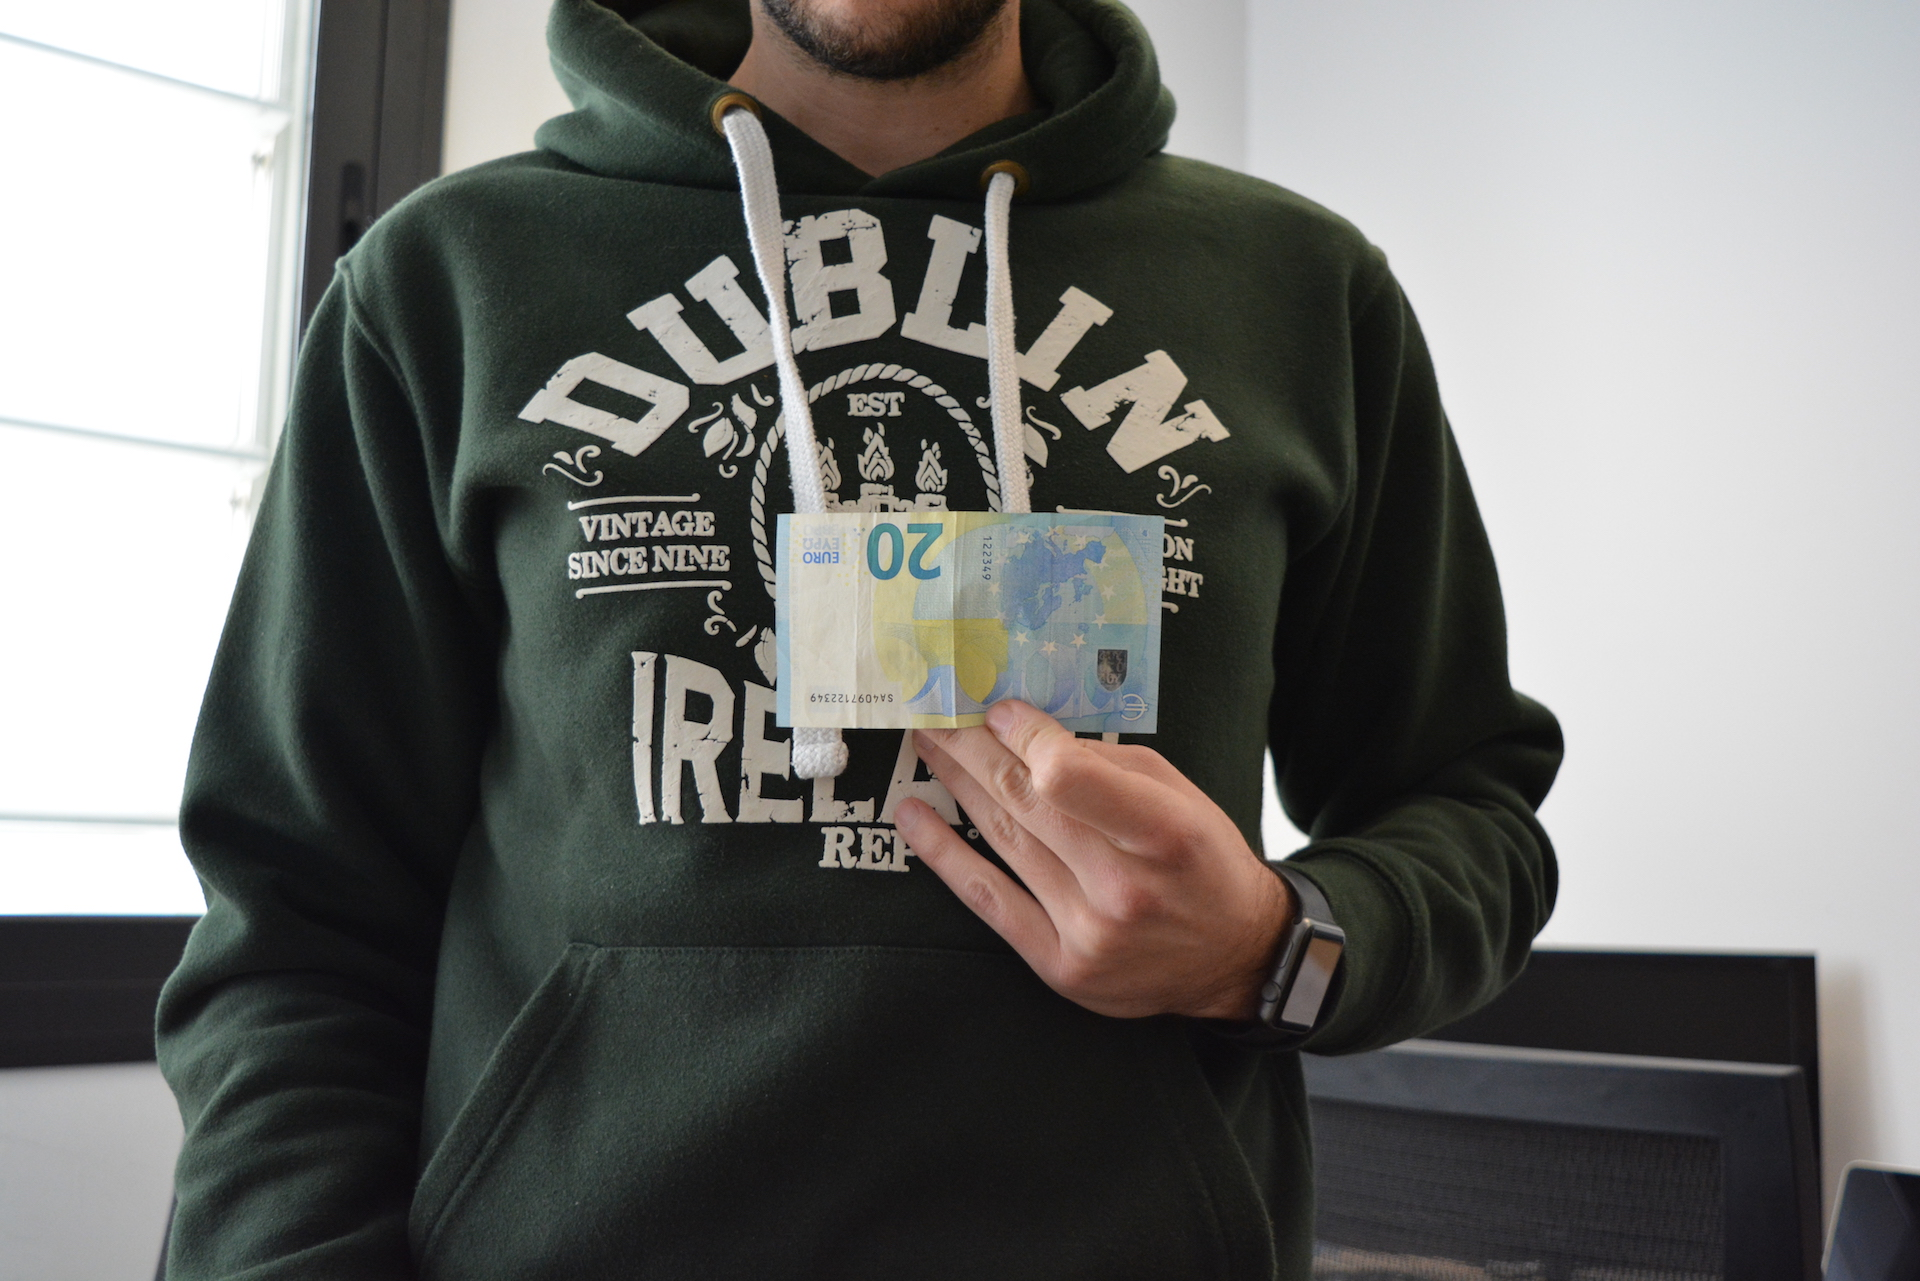billete: (772, 510, 1167, 735)
